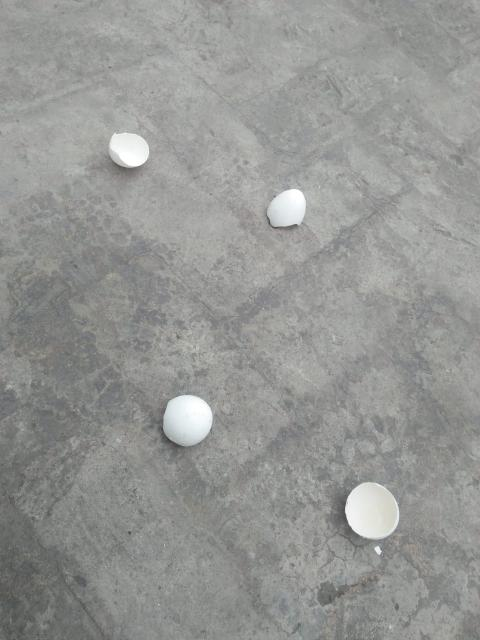Roto: (345, 481, 400, 541), (162, 394, 213, 446), (266, 188, 306, 228), (107, 132, 150, 168)
